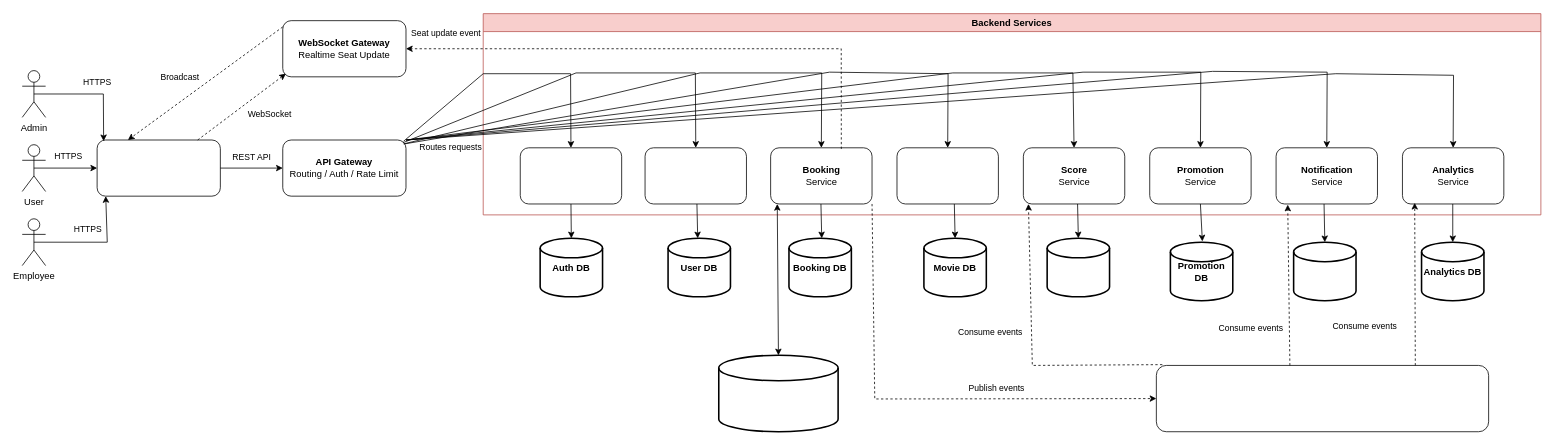
Some shapes in this 1555 by 446 pixel diagram are drawn without their labels. The shapes that lost their labels are listed below. From the top down, each one's centre as x and y in pixels, then its label:
(158,167): React Frontend UI / Client
(570,175): Auth Service
(695,175): User Service
(947,175): Movie Service
(1078,267): Score DB
(1324,271): Notification DB
(778,393): Redis cache / seat Lock
(1322,398): Kafka Async Event Bus
